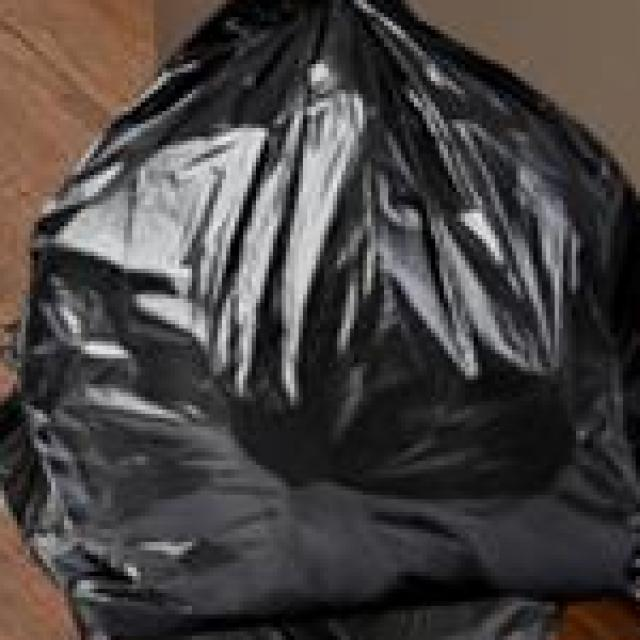Trashbag: (10, 0, 640, 618)
